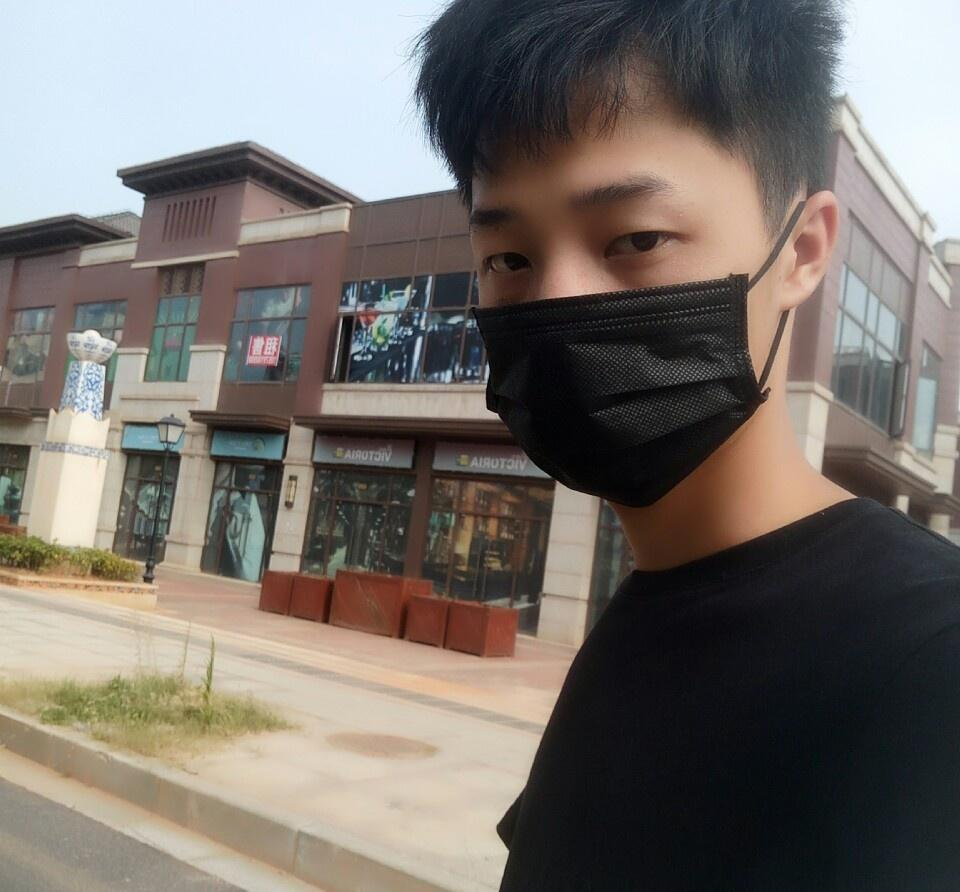OK: (461, 154, 796, 489)
